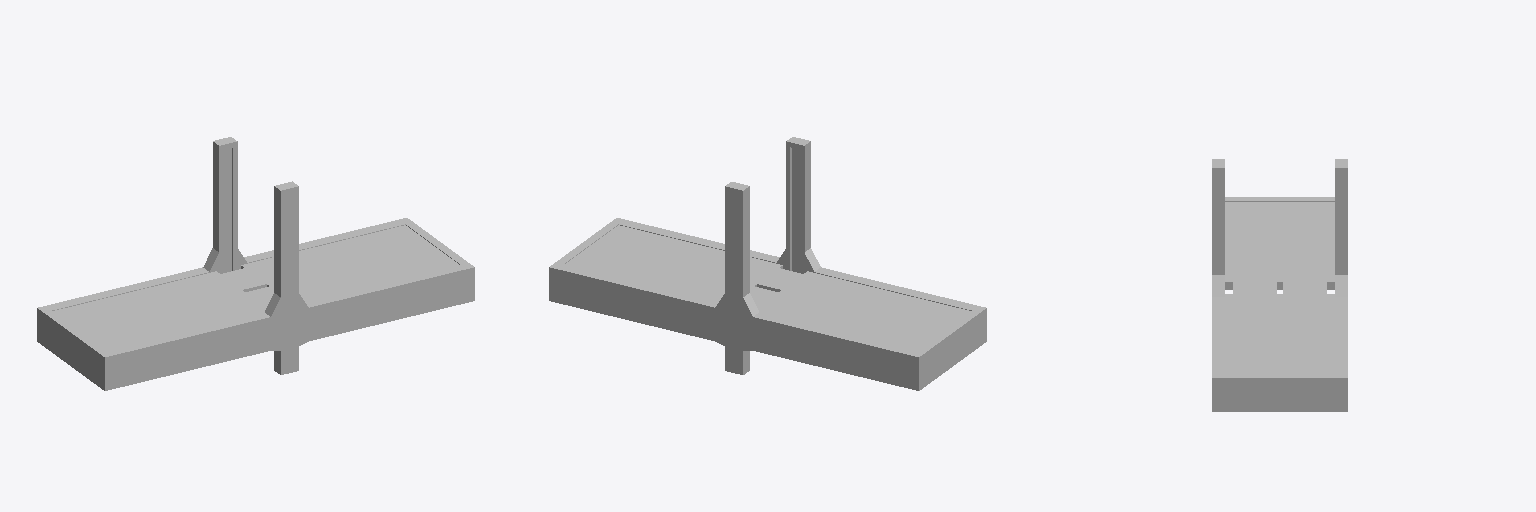
Rendered from woodmill.obj.
The picture shows the model from 3 angles: view 1: azimuth 30°, elevation 25°; view 2: azimuth 150°, elevation 25°; view 3: azimuth 270°, elevation 25°; orthographic projection.
Parts seen in each view (by area): view 1: woodmill.002, woodmill.003; view 2: woodmill.002, woodmill.003; view 3: woodmill.003, woodmill.002.
Boxes of the visible parts, x1,y1,x2,y2 form: woodmill.002: [37, 137, 474, 390]; woodmill.003: [53, 225, 458, 350]; woodmill.002: [549, 137, 986, 390]; woodmill.003: [564, 225, 970, 350]; woodmill.003: [1225, 202, 1334, 373]; woodmill.002: [1212, 159, 1347, 411].
Bounding box in the file's own units: 3 × 1.43 × 0.9523.